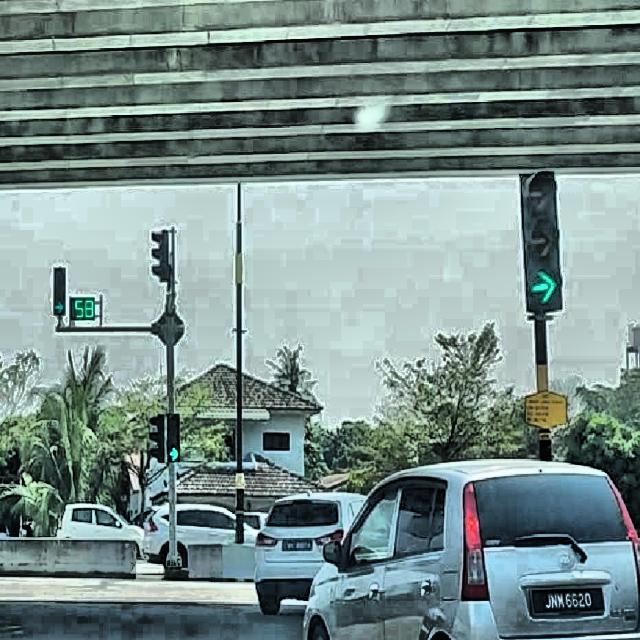green: (518, 172, 562, 314), (166, 413, 179, 462), (53, 266, 65, 314)
